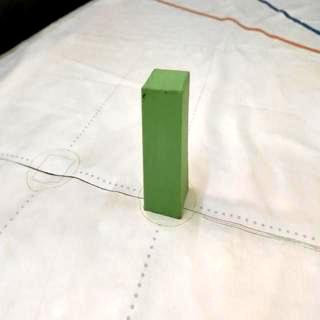greenbox: (139, 68, 191, 218)
